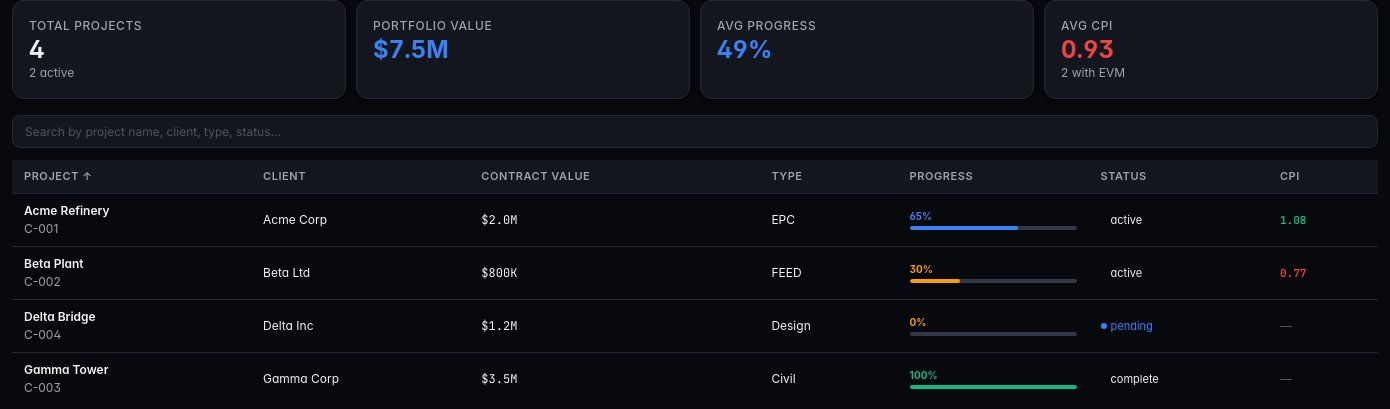
ProjectsView — search › filters by project name
Type "Acme" into the search field.
click(695, 132); type("Acme")  # box [12,115,1378,148]
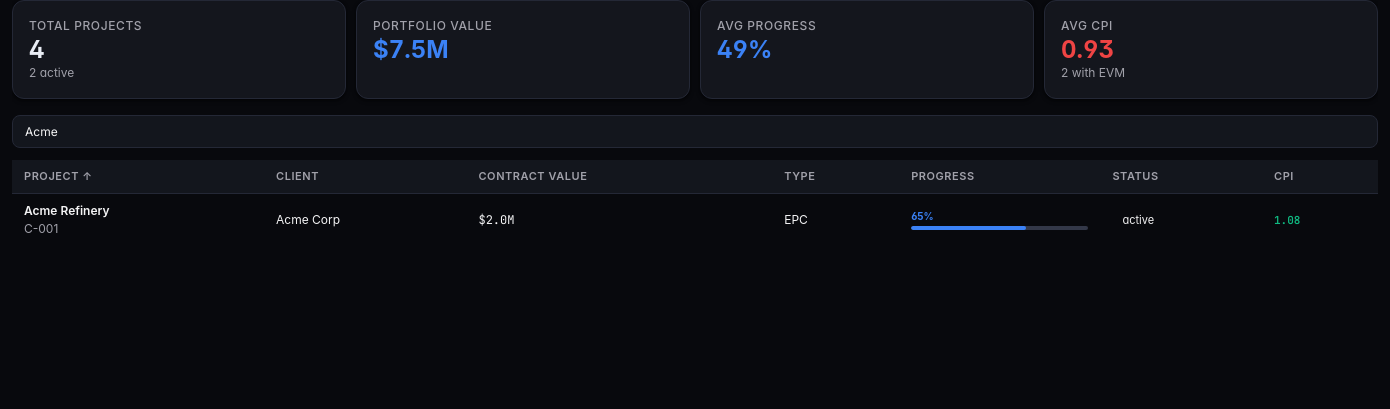
Check: the text "Acme Refinery" is shown, box [24,202,110,218]
Check: the text "Beta Plant" is gone
